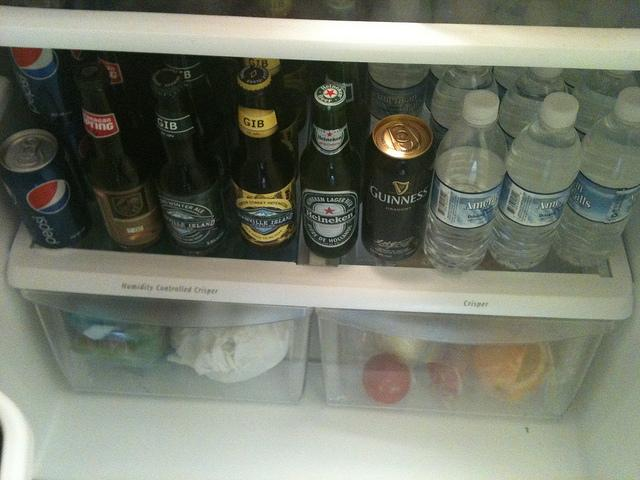orange: (474, 342, 546, 400)
tomato: (362, 351, 411, 404)
